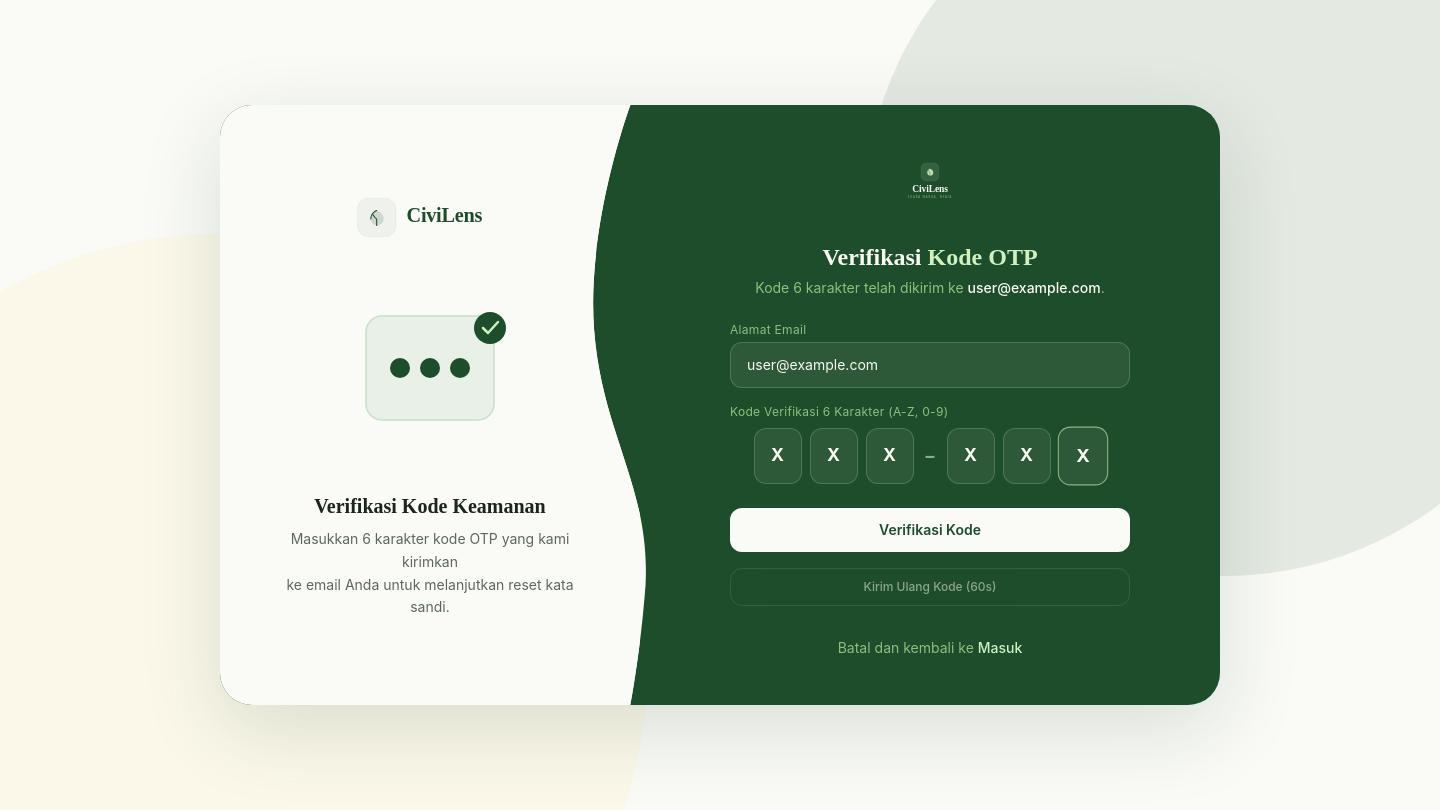
Test: VerifyResetCodePage › handles invalid or expired code error (422)
Click the button "Verifikasi Kode": {"x": 930, "y": 530} [730,508,1130,552]
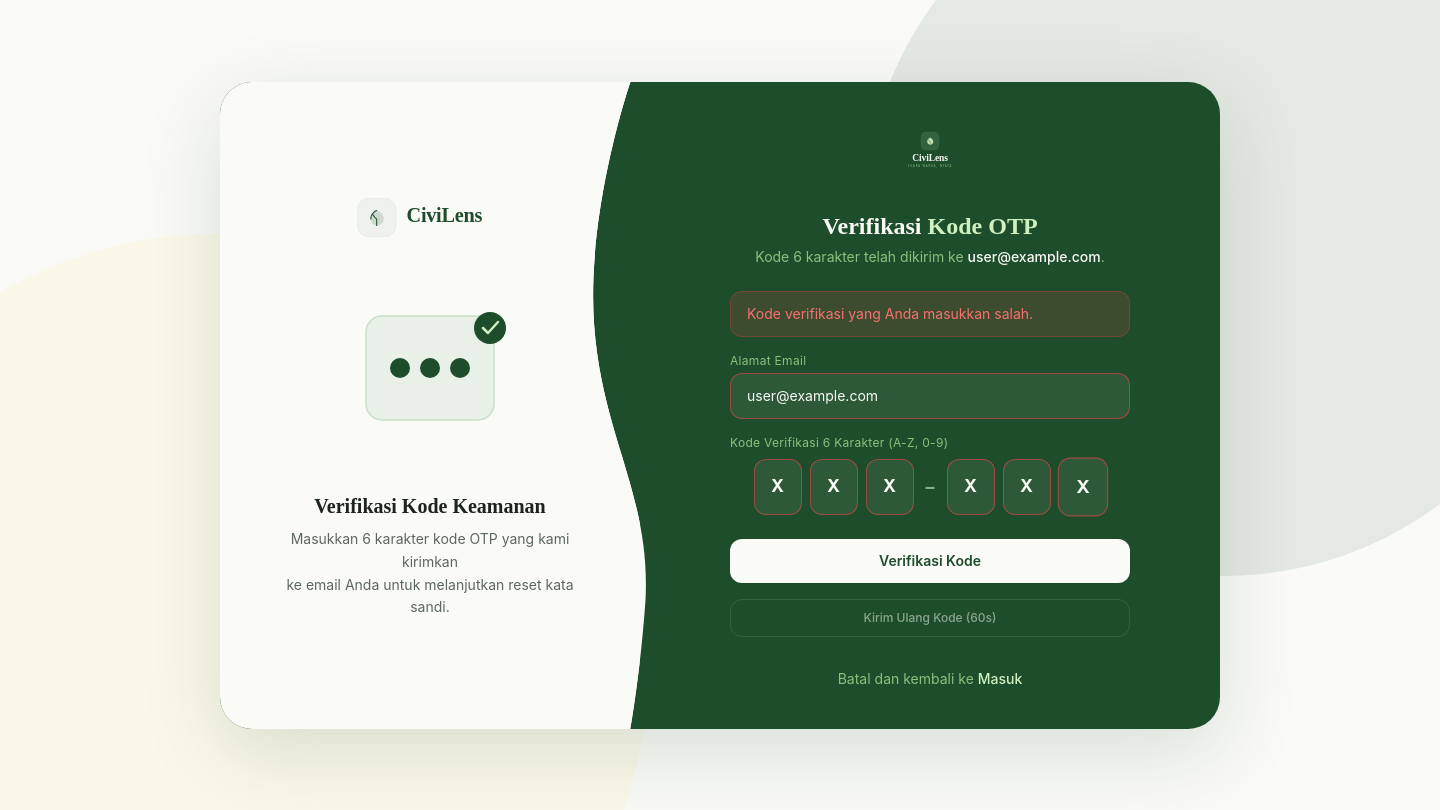
Now the text "Kode verifikasi yang Anda masukkan salah." is shown, box [730,290,1130,336]
